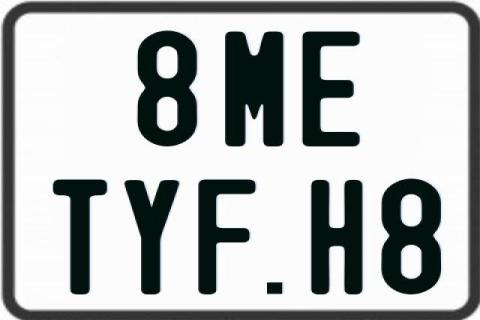0: (136, 29, 199, 148), (379, 177, 442, 295)
E: (300, 30, 358, 150)
F: (198, 178, 257, 298)
H: (312, 180, 362, 294)
M: (225, 30, 288, 150)
T: (50, 178, 109, 298)
Y: (122, 179, 177, 299)
